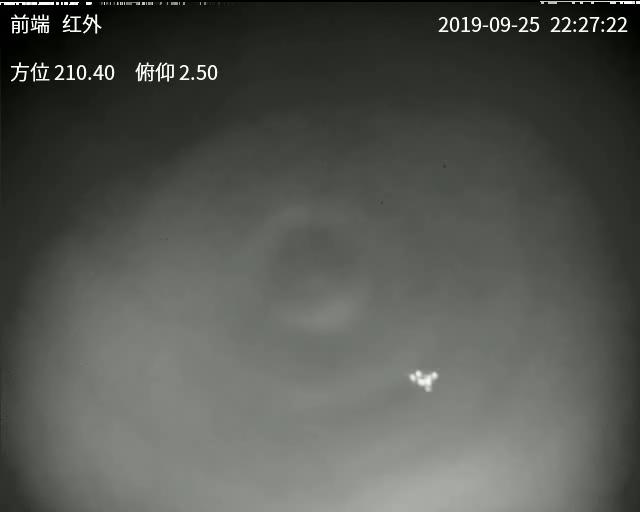uav: (405, 361, 439, 397)
